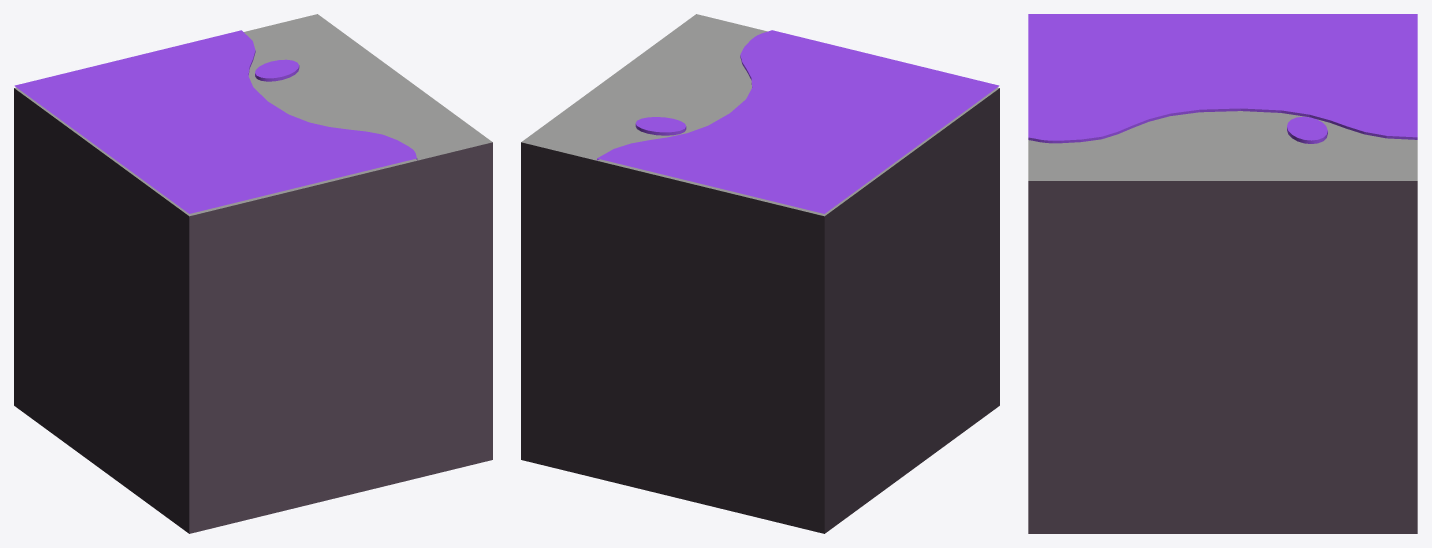
Rendered from tile_obstacle_toxic06.FBX.
The picture shows the model from 3 angles, left to right: view 1: azimuth 30°, elevation 25°; view 2: azimuth 150°, elevation 25°; view 3: azimuth 270°, elevation 25°; orthographic projection. The views are drawn at different scales.
Parts seen in each view (by area): view 1: tile_obstacle_toxic06; view 2: tile_obstacle_toxic06; view 3: tile_obstacle_toxic06.
Boxes of the visible parts, x1,y1,x2,y2 form: tile_obstacle_toxic06: (14, 14, 492, 533); tile_obstacle_toxic06: (521, 14, 999, 533); tile_obstacle_toxic06: (1028, 14, 1417, 533).
Bounding box in the file's own units: 39.37 × 39.77 × 39.38.
